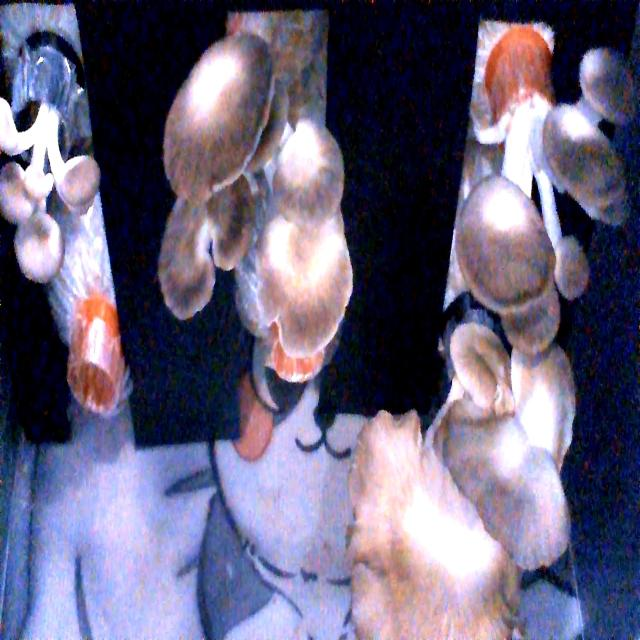big: (156, 27, 368, 392), (350, 359, 588, 640), (438, 39, 640, 363)
nfound: (60, 346, 134, 424)
small: (0, 95, 107, 280)
